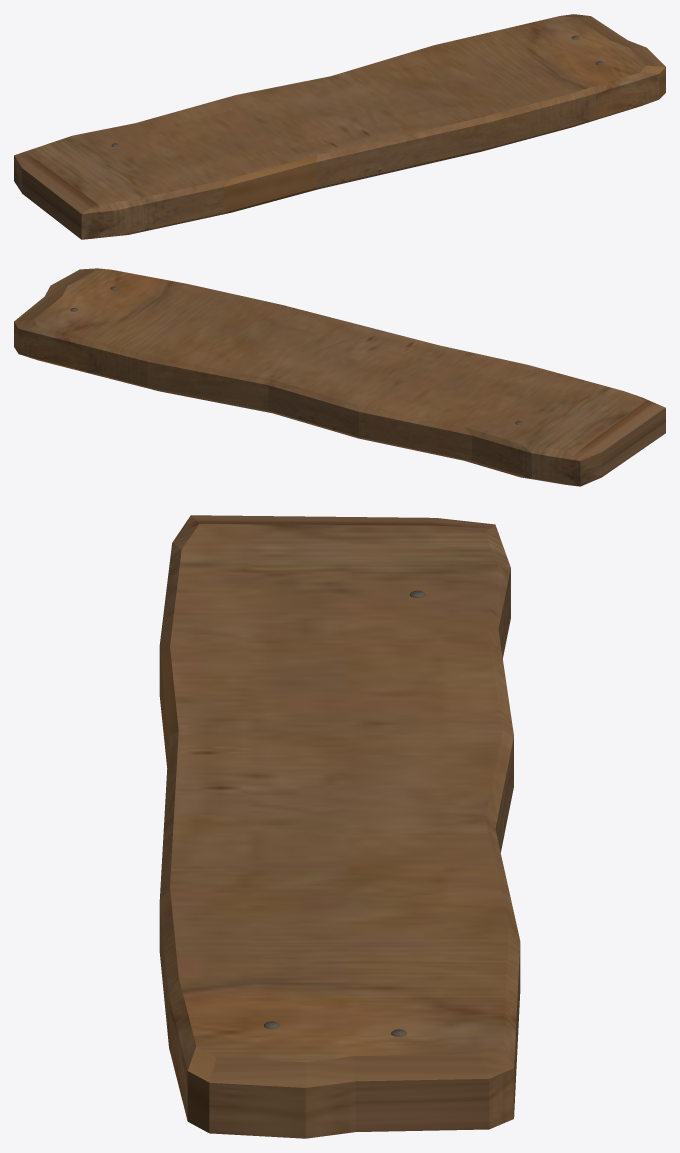
File: wood_plank.glb
3 renders of one model, top to bottom at view 1: azimuth 30°, elevation 25°; view 2: azimuth 150°, elevation 25°; view 3: azimuth 270°, elevation 25°, orthographic. The views are drawn at different scales.
Parts seen in each view (by area): view 1: wood_plank; view 2: wood_plank; view 3: wood_plank.
Part boxes in pixels (<box>): wood_plank: <box>14,14,665,239</box>; wood_plank: <box>14,268,665,486</box>; wood_plank: <box>159,515,520,1138</box>.
Bounding box in the file's own units: 0.436 × 0.0245 × 0.116.
Materials: 3 (2 with a texture image).
